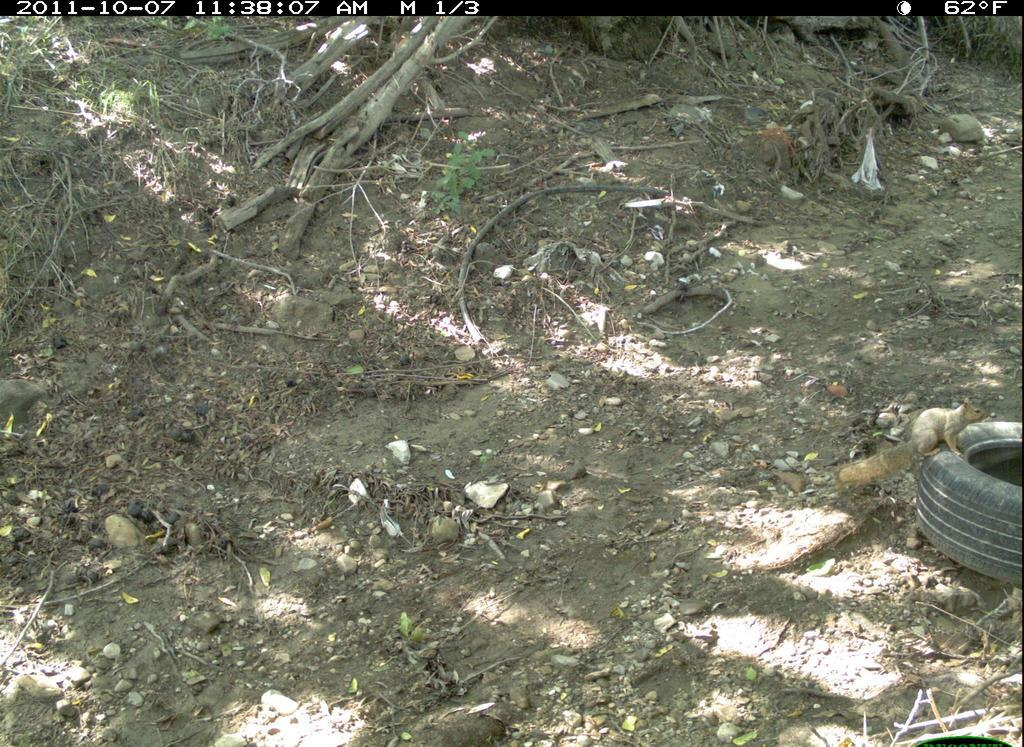squirrel: (841, 360, 993, 505)
